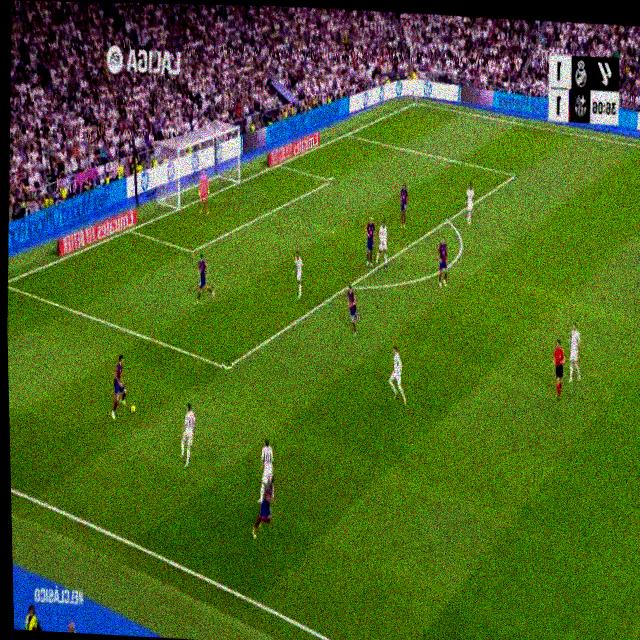bigarea_bottom_inner: (221, 355, 232, 378)
bigarea_top_inner: (510, 166, 520, 183)
bigarea_top_outter: (344, 126, 351, 139)
corner: (413, 98, 419, 106)
smallarea_bottom_inner: (187, 242, 197, 260)
smallarea_top_inner: (329, 175, 334, 185)
top_arc_area_intersection: (446, 213, 450, 225)
